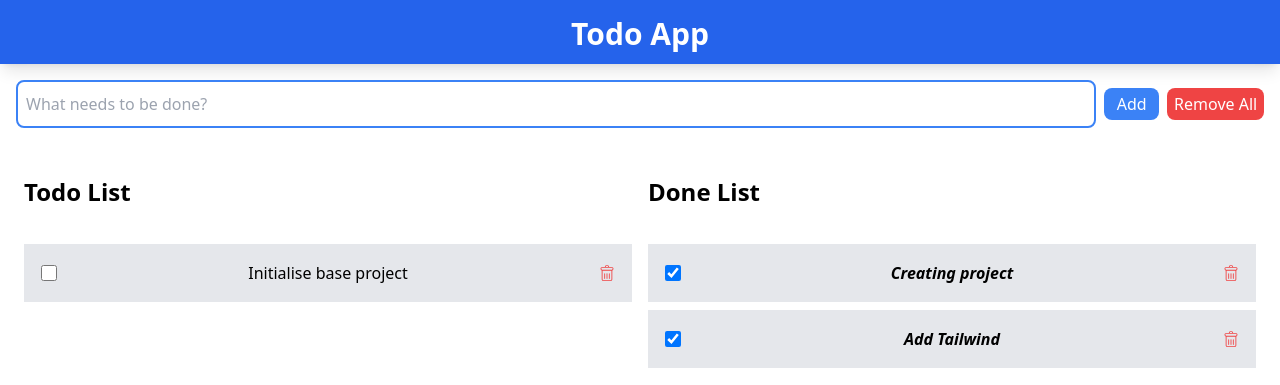
Scenario: should add todo to the list when add button is clicked
This screenshot has width=1280, height=385.
In the field with placeholder "What needs to be done?": x=556, y=104 [16,80,1096,128], type "Buy groceries"
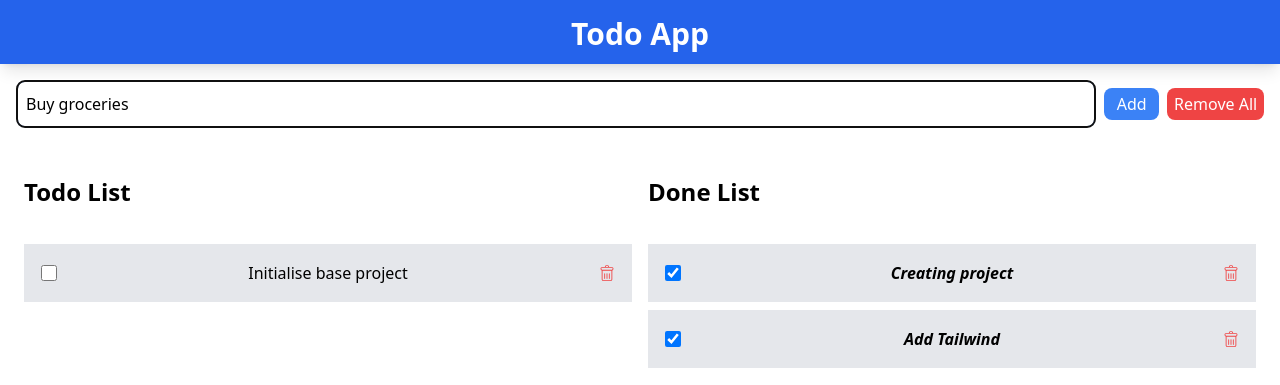
Click the button "Add": x=1132, y=104 [1104,88,1159,120]
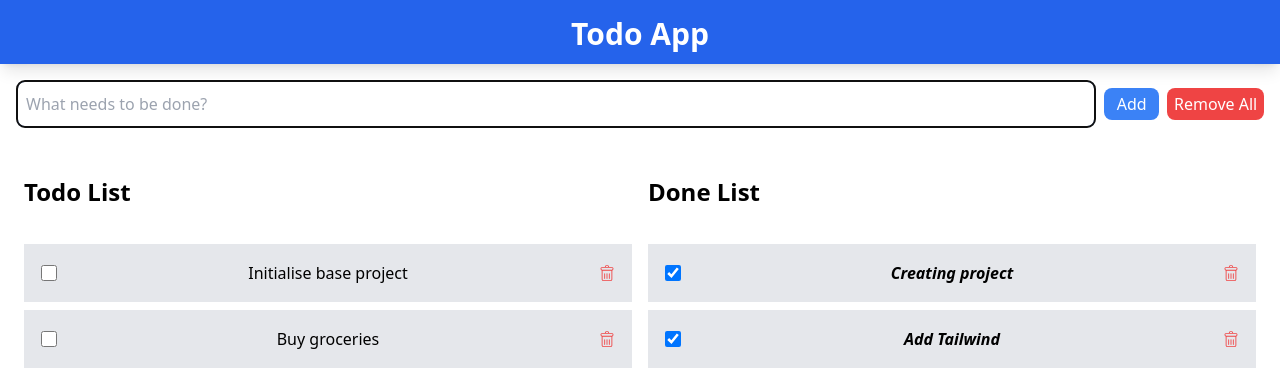
Now the text "Buy groceries" is shown, box [277,327,379,351]
